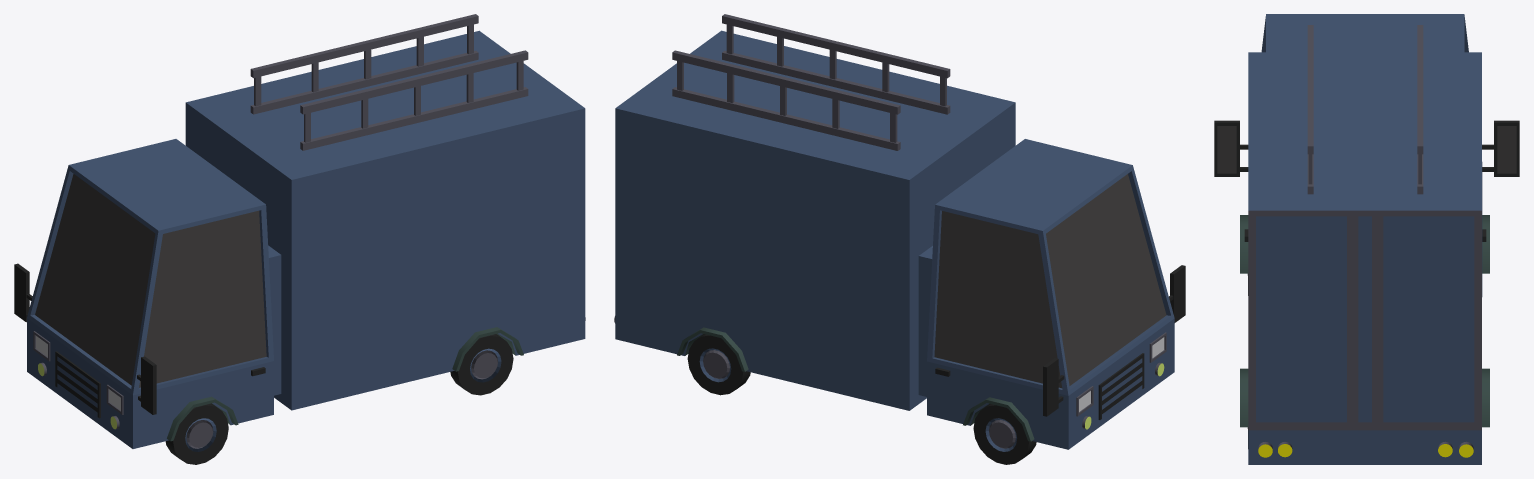
File: van2.FBX
The picture shows the model from 3 angles, left to right: view 1: azimuth 30°, elevation 25°; view 2: azimuth 150°, elevation 25°; view 3: azimuth 270°, elevation 25°; orthographic projection. The views are drawn at different scales.
Visible parts, largest first — view 1: van2; view 2: van2; view 3: van2.
Part boxes in pixels (<box>): van2: <box>14,14,585,464</box>; van2: <box>614,14,1185,464</box>; van2: <box>1214,14,1519,464</box>.
Size of the model in its own units: 12.53 by 7.95 by 6.53.
